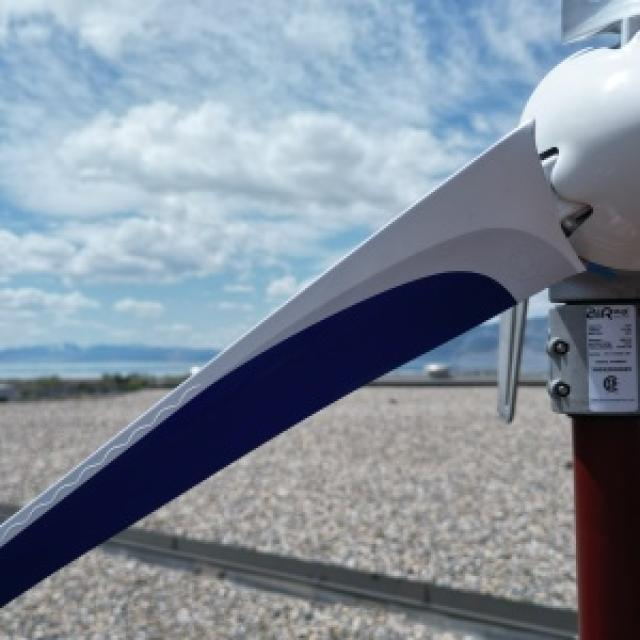healthy: (0, 0, 574, 369)
